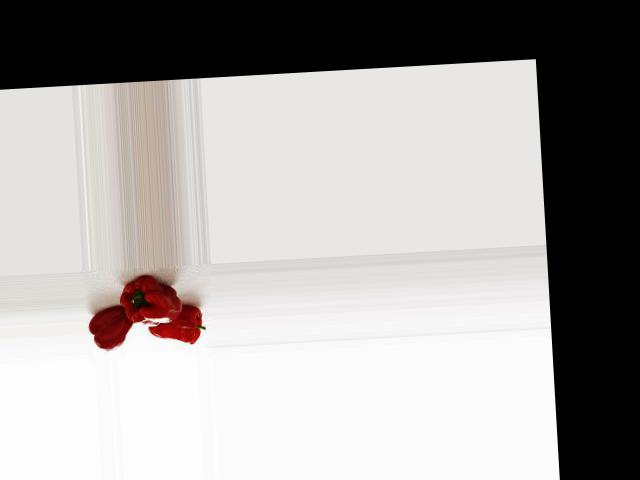bell_pepper: (85, 303, 131, 351)
